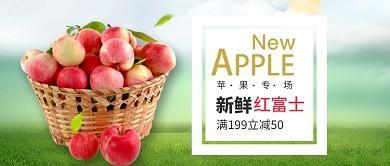apple: (100, 124, 141, 165), (142, 41, 177, 75), (100, 38, 133, 71), (51, 34, 85, 65), (28, 53, 59, 83), (69, 131, 100, 161), (89, 65, 124, 89), (55, 67, 88, 88), (124, 64, 153, 86), (20, 49, 41, 73)
